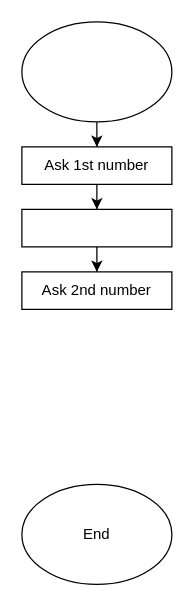
This 194x606 diagram has some shape labels left out. Here are the shapes that lost their labels. From the top down, the centre of each, then its label:
pixel 96 71: Start
pixel 96 227: Print operations
